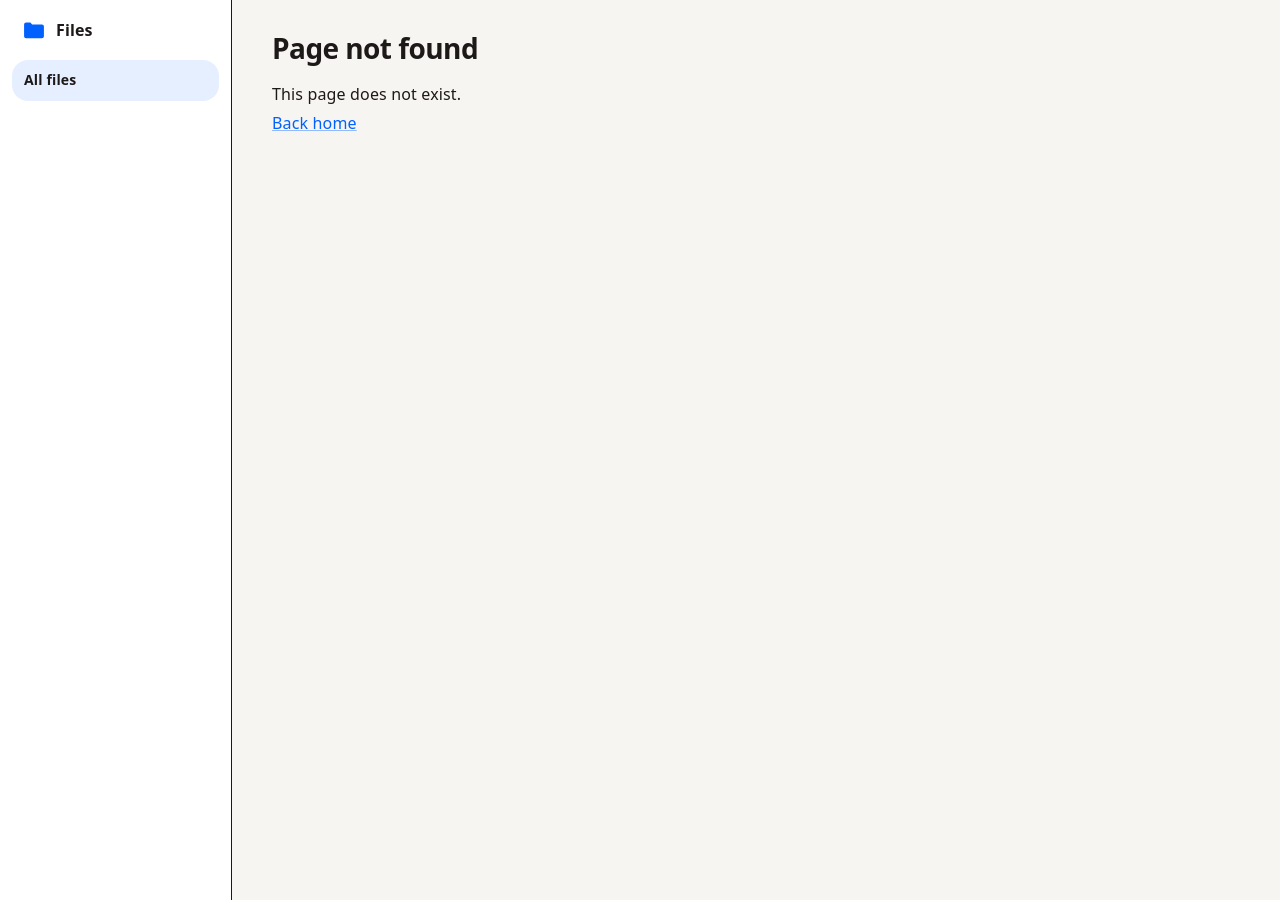
Test case: routes › unknown paths render the local 404
Expected: the heading "Page not found" is shown, left=272, top=29, right=478, bottom=67
Step 1. Click the link "Back home" → (314, 123), box left=272, top=112, right=357, bottom=134
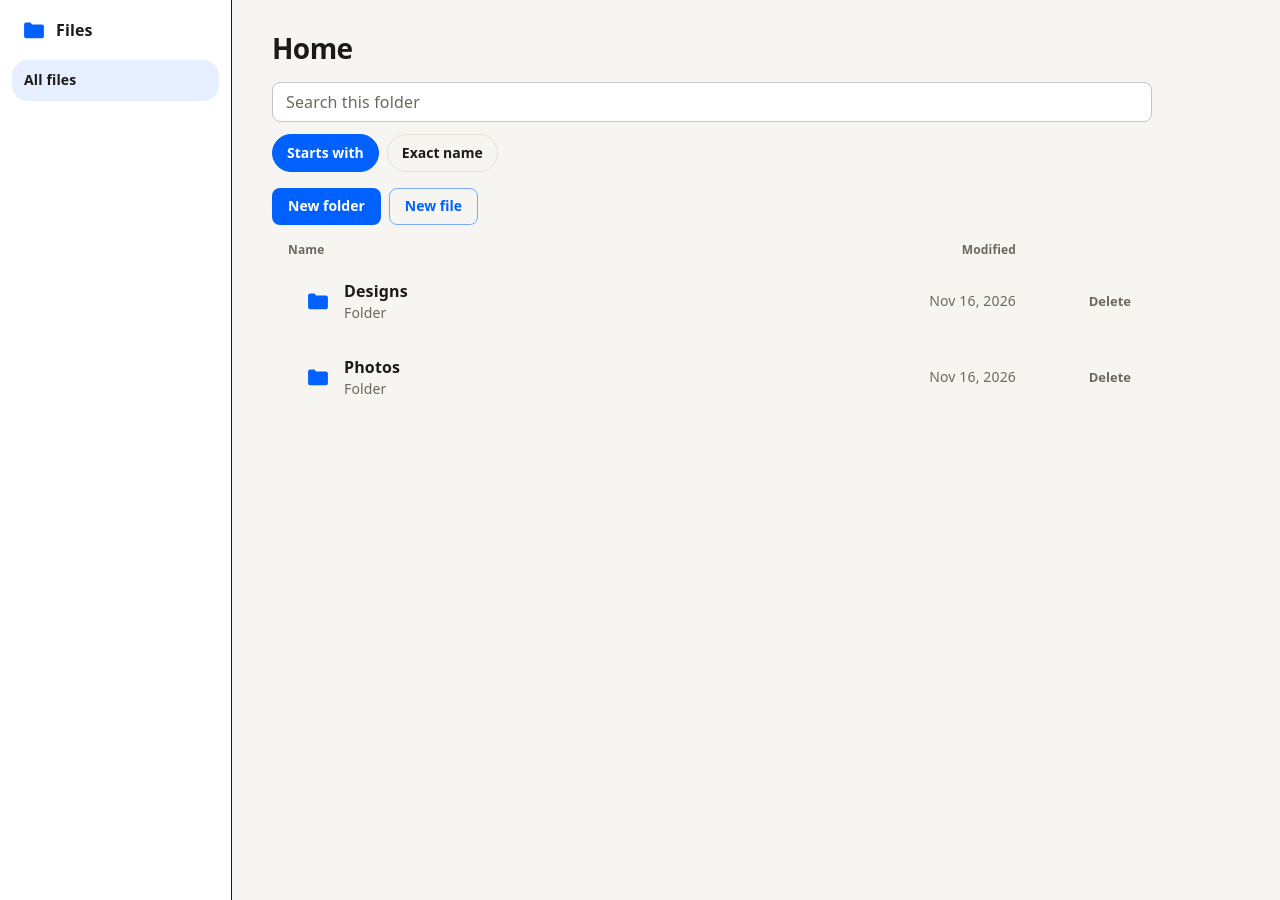
Result: the heading "Home" is shown at left=272, top=29, right=353, bottom=67
